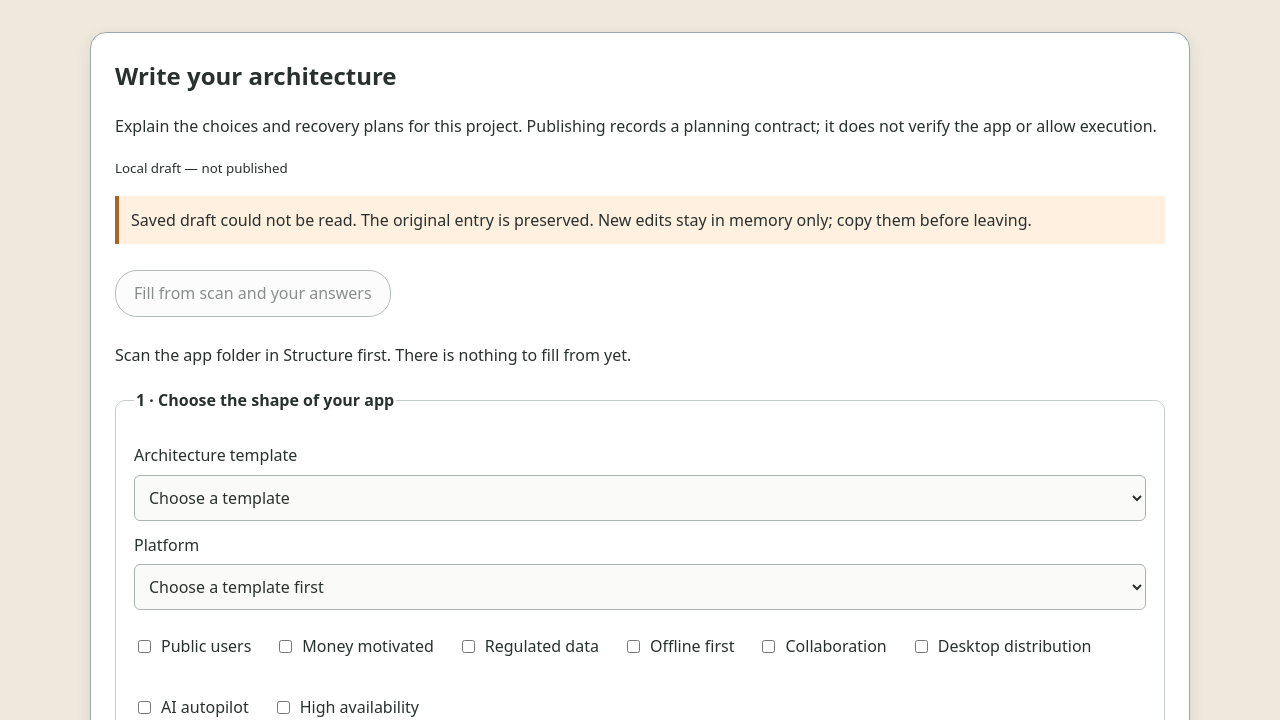
Test: architecture draft authoring › preserves unreadable storage while edits remain memory-only
Select "Static content website" in the dropdown labelled "Architecture template" at (640, 498), box [134,475,1146,521]
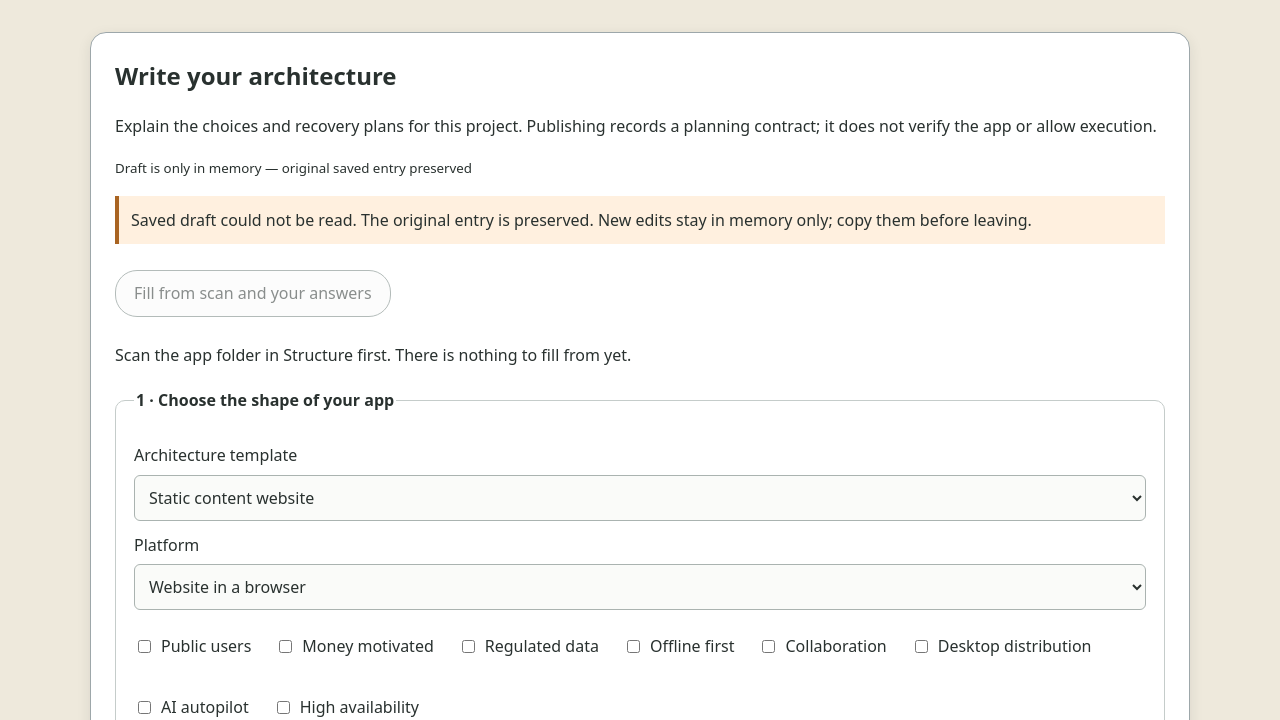
Expected: the 2nd message shows "original entry is preserved", [131,209,1032,231]
Expected: the message "Draft is only in memory — original saved entry preserved" is shown, [115,159,472,177]
